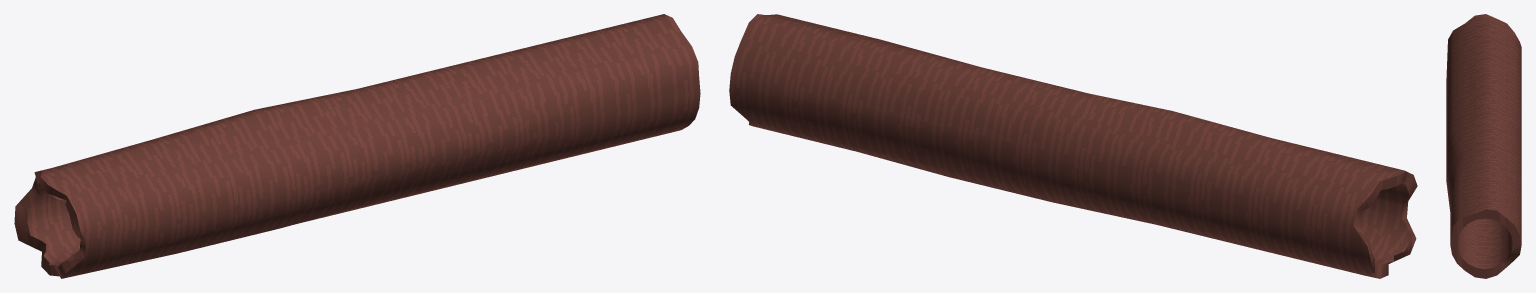
The model's file is Log.fbx.
The picture shows the model from 3 angles, left to right: view 1: azimuth 30°, elevation 25°; view 2: azimuth 150°, elevation 25°; view 3: azimuth 270°, elevation 25°; orthographic projection. The views are drawn at different scales.
Parts seen in each view (by area): view 1: Log; view 2: Log; view 3: Log.
Boxes of the visible parts, box(x1,y1,x2,y2) form: Log: box(14, 14, 700, 278); Log: box(729, 14, 1417, 278); Log: box(1446, 14, 1521, 278).
Bounding box in the file's own units: 9770 × 1666 × 1571.
1 material, 1 textured.
